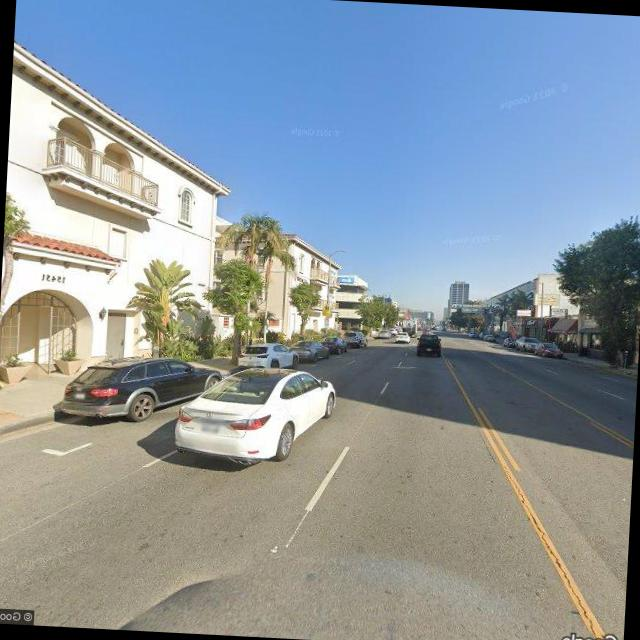pothole: (499, 459, 606, 633)
